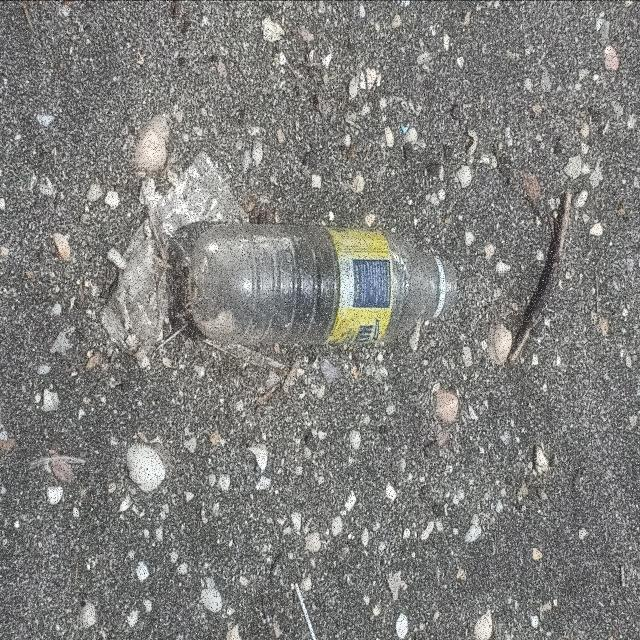plastic_waste: (189, 223, 459, 349)
